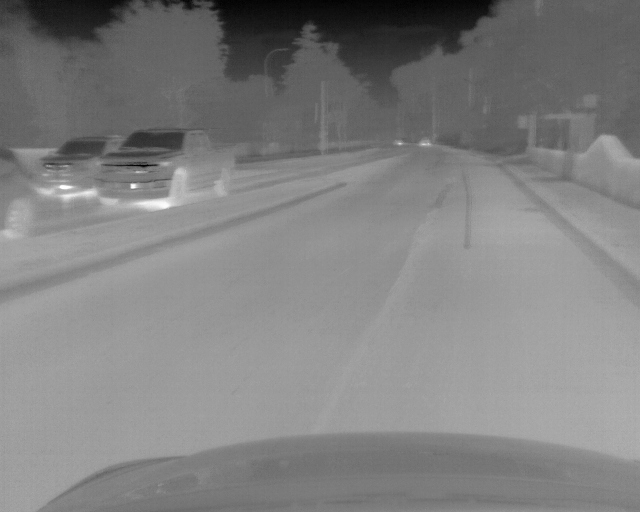car: (91, 125, 238, 208), (36, 135, 125, 196), (1, 148, 36, 241)
